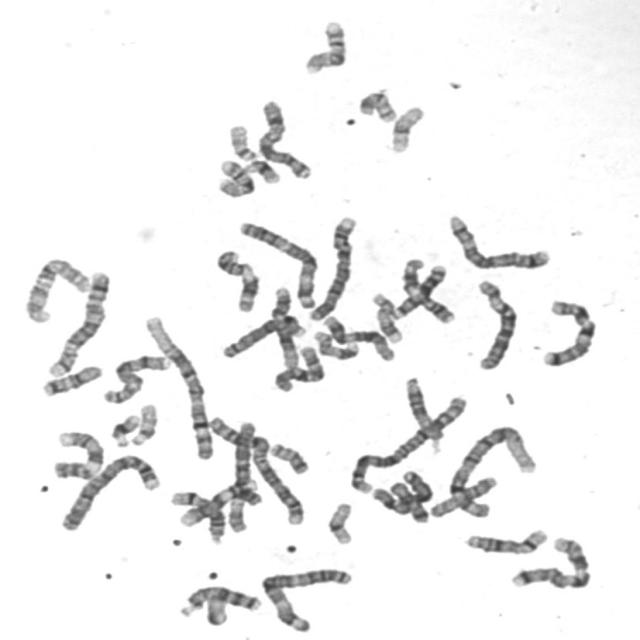A1: (140, 310, 216, 461), (444, 421, 539, 521)
A2: (346, 392, 472, 494), (204, 412, 308, 527)
A3: (233, 217, 321, 311), (256, 563, 355, 635)
B4: (54, 449, 162, 534), (303, 212, 359, 322)
B5: (43, 266, 112, 379), (443, 210, 554, 272)
C10: (19, 252, 92, 326), (269, 342, 327, 394)
C11: (398, 255, 457, 325), (211, 245, 262, 314)
C12: (318, 311, 398, 363), (266, 283, 302, 369)
C6: (468, 275, 520, 372), (227, 416, 260, 536)
C7: (506, 533, 594, 592), (536, 295, 598, 369)
C8: (217, 311, 308, 360), (99, 351, 174, 405)
C9: (174, 474, 261, 529), (48, 426, 106, 481)
D13: (384, 261, 449, 321), (174, 581, 264, 619)
D14: (167, 488, 228, 548), (460, 524, 551, 556)
D15: (425, 472, 500, 520), (402, 376, 443, 454)
E16: (299, 15, 349, 76), (213, 155, 257, 199)
E17: (368, 288, 405, 345), (309, 326, 362, 362)
E18: (37, 360, 104, 398), (386, 478, 431, 524)
F19: (385, 101, 427, 155), (322, 498, 356, 547)
F20: (353, 86, 399, 124), (266, 439, 310, 476)
G21: (106, 409, 142, 449), (239, 157, 283, 186)
G22: (126, 399, 160, 447), (224, 120, 259, 163)
X: (253, 96, 314, 182), (366, 467, 434, 517)
